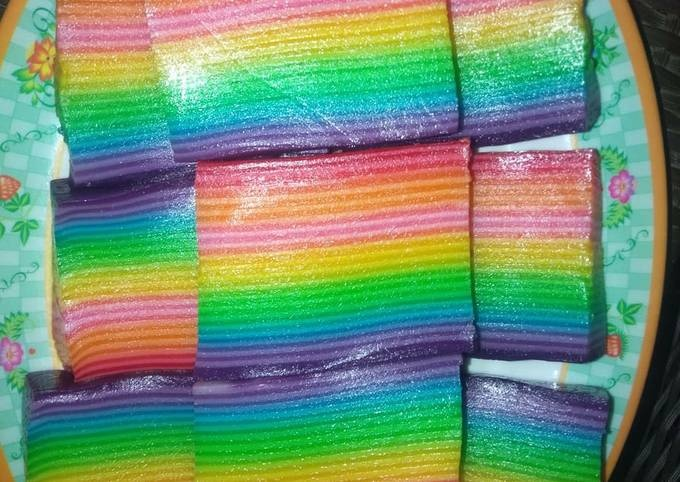kue_lapis_pelangi: (191, 140, 476, 380), (144, 0, 461, 163), (192, 361, 463, 482)
